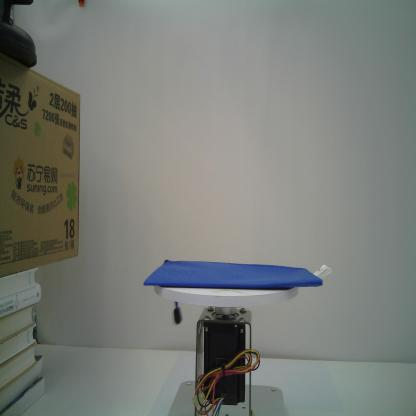Stationery: (142, 258, 334, 327)
